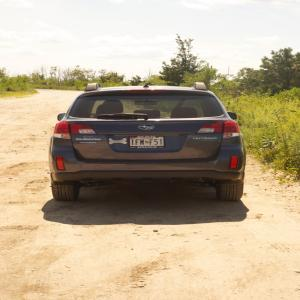Vehicle-registration-plate: (132, 137, 167, 150)
